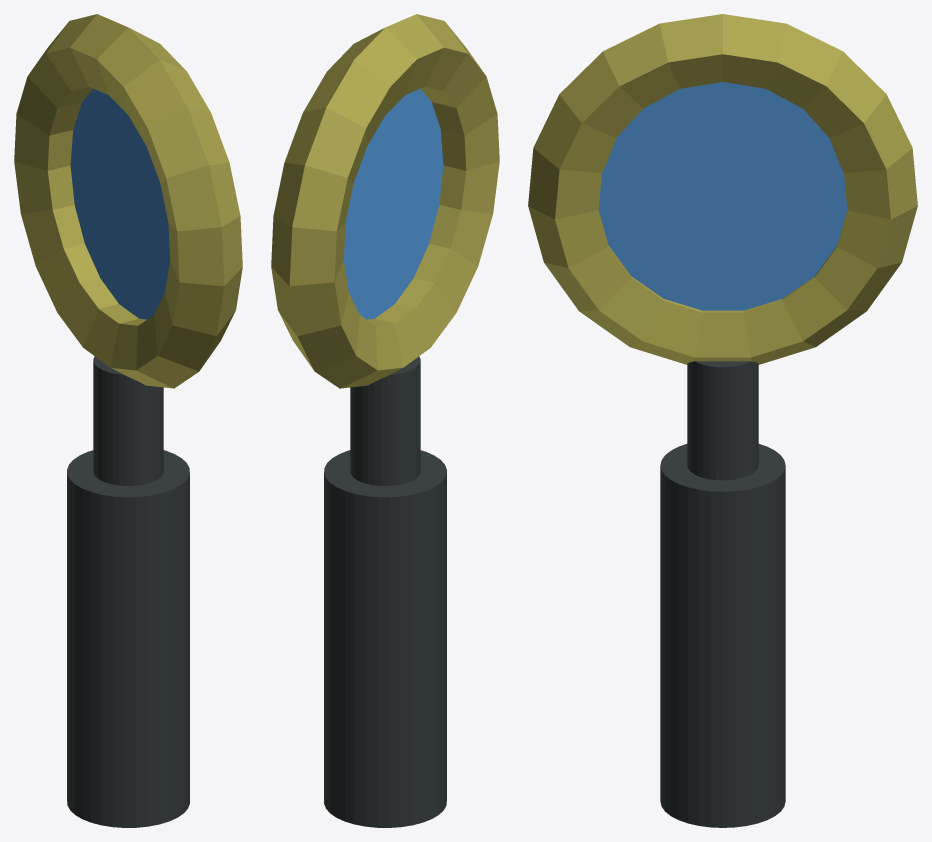
Rendered from lupa.fbx.
3 views of the same model, side by side, from view 1: azimuth 30°, elevation 25°; view 2: azimuth 150°, elevation 25°; view 3: azimuth 270°, elevation 25° (orthographic).
Parts seen in each view (by area): view 1: lupa, Torus, Plane; view 2: lupa, Torus, Plane; view 3: Torus, lupa, Plane.
Boxes of the visible parts, box(x1,y1,x2,y2) form: lupa: box(67, 356, 189, 827); Torus: box(14, 14, 242, 388); Plane: box(70, 88, 169, 319); lupa: box(324, 356, 446, 827); Torus: box(271, 14, 499, 388); Plane: box(344, 88, 443, 319); Torus: box(528, 14, 917, 364); lupa: box(660, 361, 785, 827); Plane: box(598, 82, 847, 310).
Bounding box in the file's own units: 80 × 555 × 249.
